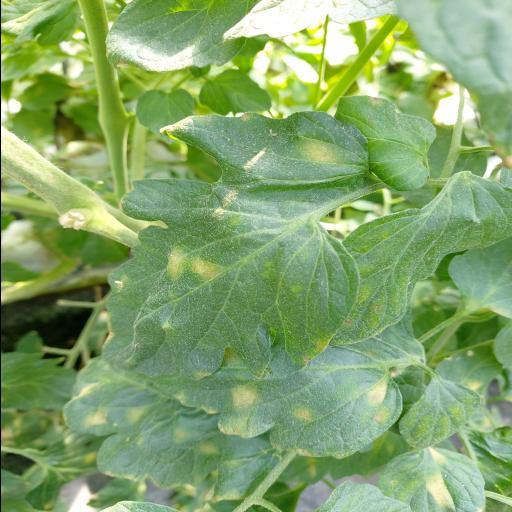disease_tomato: (100, 112, 374, 382)
